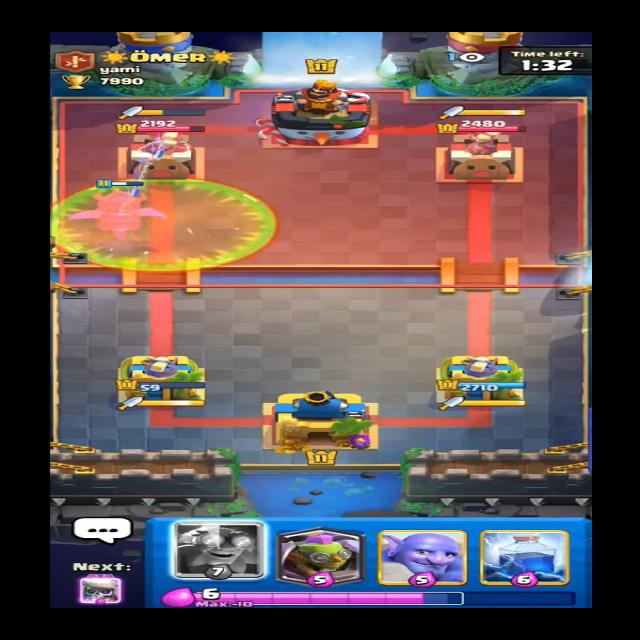goblin-curse: (50, 175, 276, 273)
